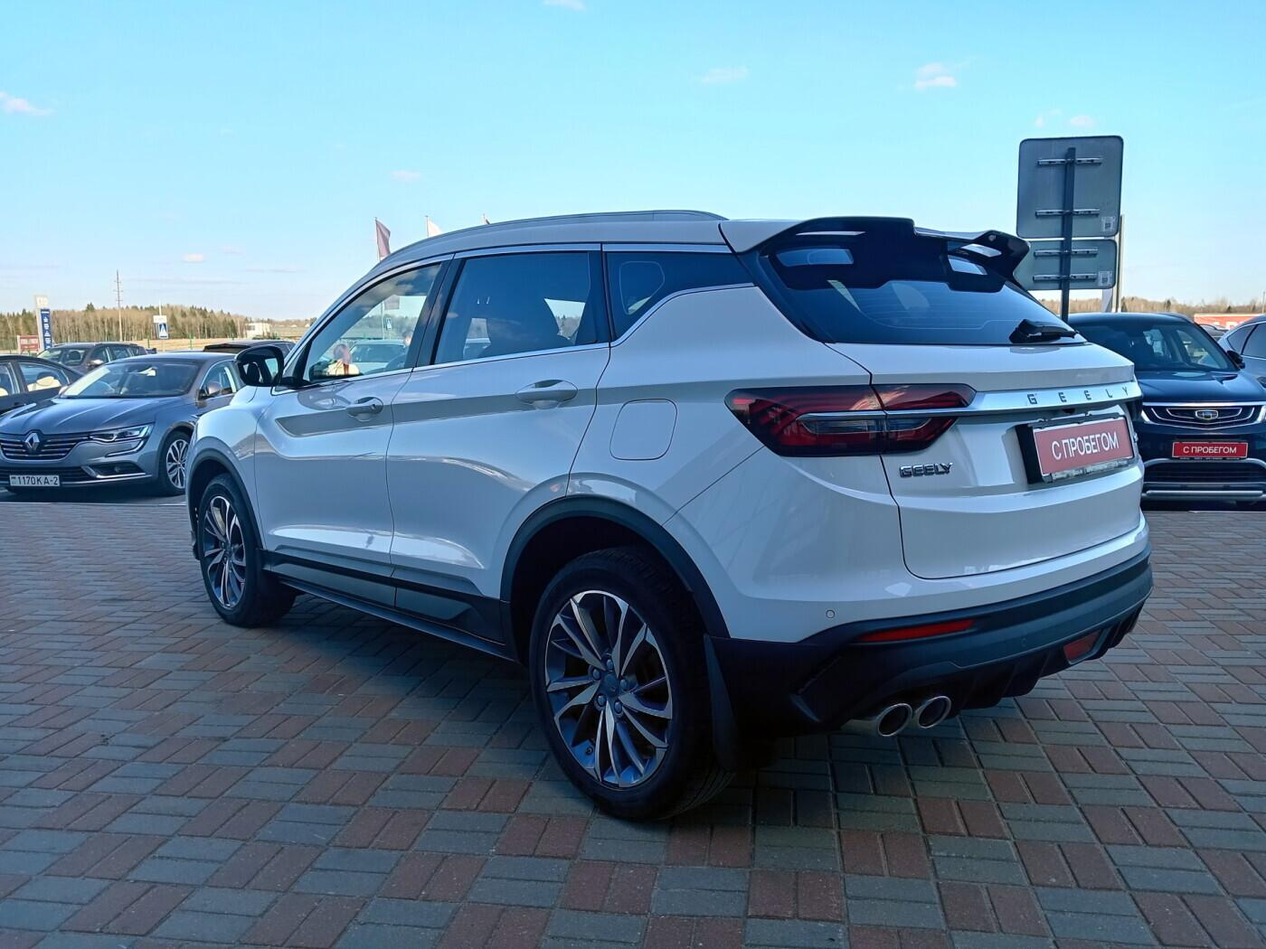Coolray_2019-2023: (183, 207, 1161, 817)
